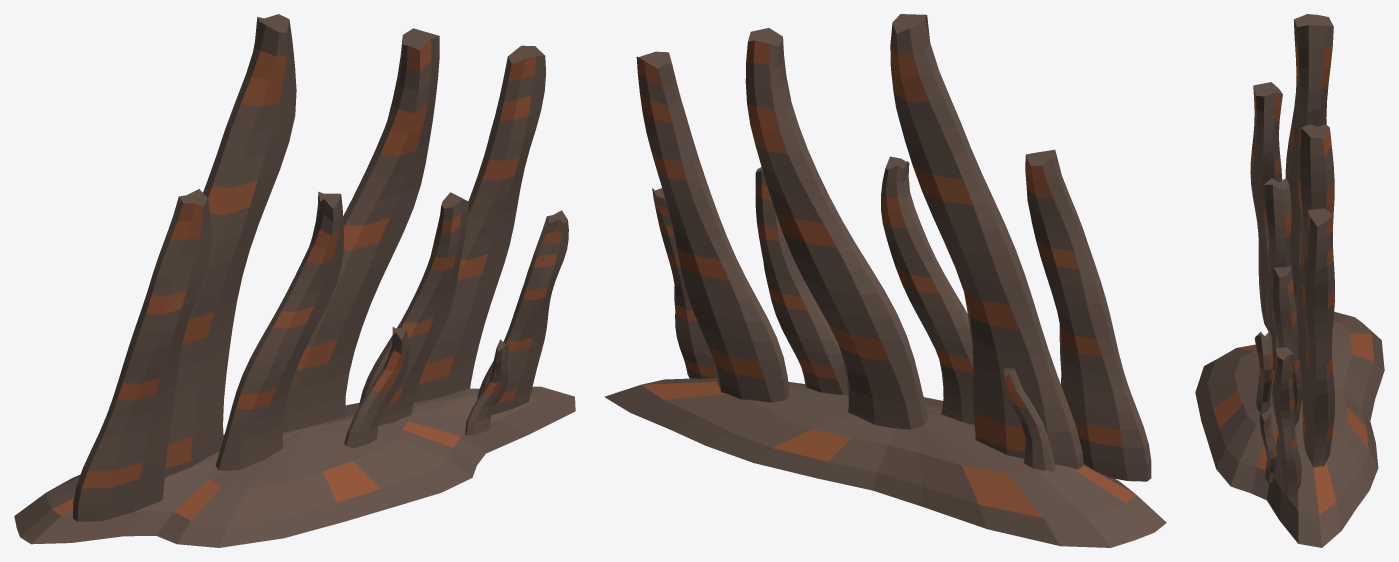
File: landmark_iron_ribs_a.glb
3 views of the same model, side by side, from view 1: azimuth 30°, elevation 25°; view 2: azimuth 150°, elevation 25°; view 3: azimuth 270°, elevation 25° (orthographic). The views are drawn at different scales.
Visible parts, largest first — view 1: landmark_iron_ribs_a_lod0; view 2: landmark_iron_ribs_a_lod0; view 3: landmark_iron_ribs_a_lod0.
Part boxes in pixels (<box>): landmark_iron_ribs_a_lod0: <box>14,14,575,547</box>; landmark_iron_ribs_a_lod0: <box>604,14,1166,547</box>; landmark_iron_ribs_a_lod0: <box>1195,14,1384,547</box>.
Size of what is drawn, in the model's own units: 12.5 by 9.87 by 4.2.
